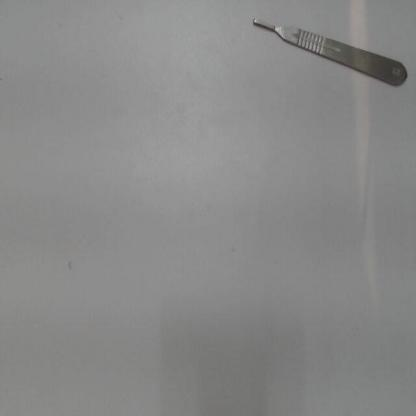No.3 BP Handle: (248, 9, 408, 99)
